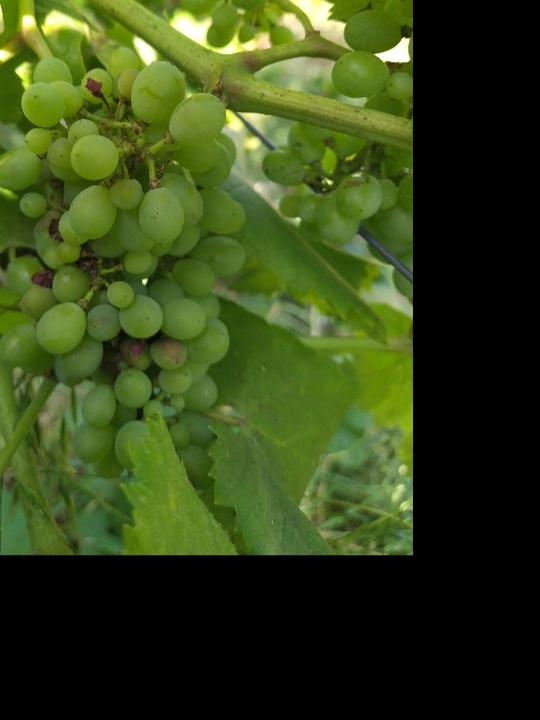grape: (0, 45, 253, 492)
